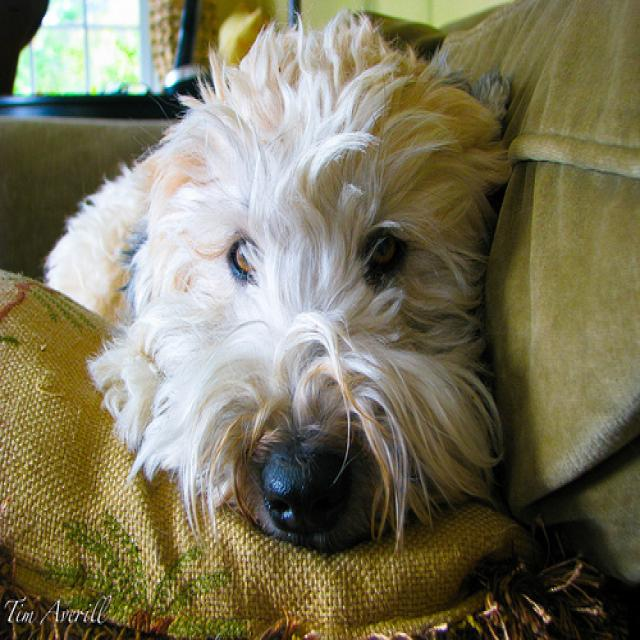dog-wheaten_terrier: (40, 3, 531, 558)
